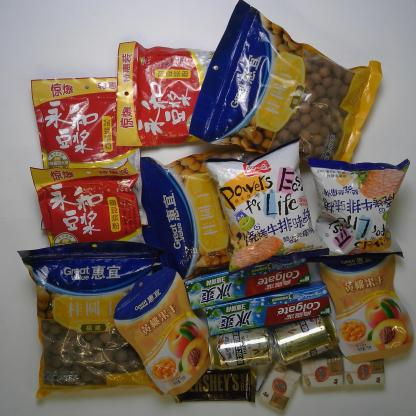Alcohol: (271, 313, 342, 367), (206, 325, 277, 371)
Chocolate: (173, 366, 259, 406)
Dried Food: (184, 0, 384, 167), (15, 238, 172, 409), (136, 145, 265, 280)
Dried Fruit: (111, 265, 212, 396), (316, 252, 416, 366)
Instant Drink: (30, 74, 152, 231), (114, 39, 217, 148), (29, 156, 146, 250)
Personal Hygiene: (203, 279, 334, 338), (183, 260, 312, 312)
Puffed Food: (203, 136, 332, 278), (302, 155, 412, 262)
Tissue: (256, 362, 302, 414), (299, 355, 344, 394), (340, 356, 390, 390)
